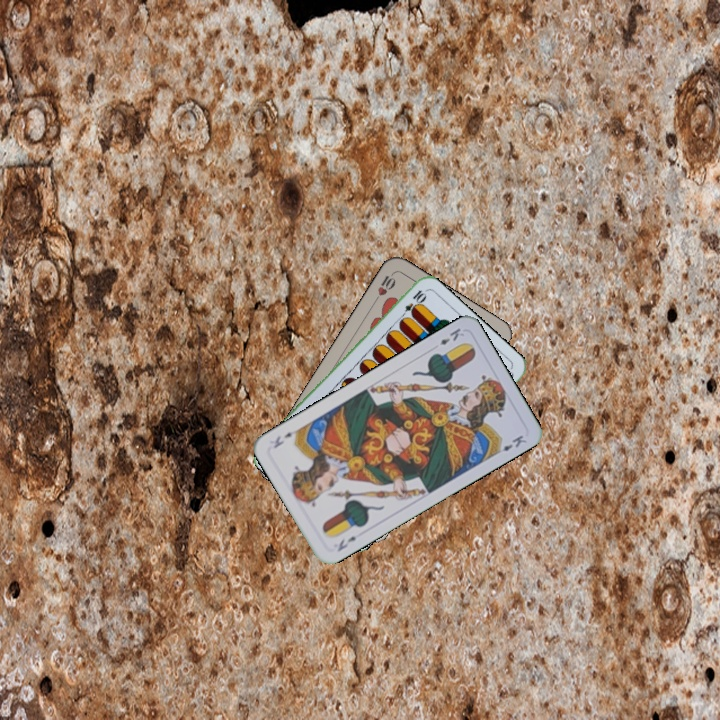E10: (396, 286, 428, 322)
EK: (435, 324, 467, 348), (333, 532, 359, 554)
H10: (370, 269, 398, 305)
